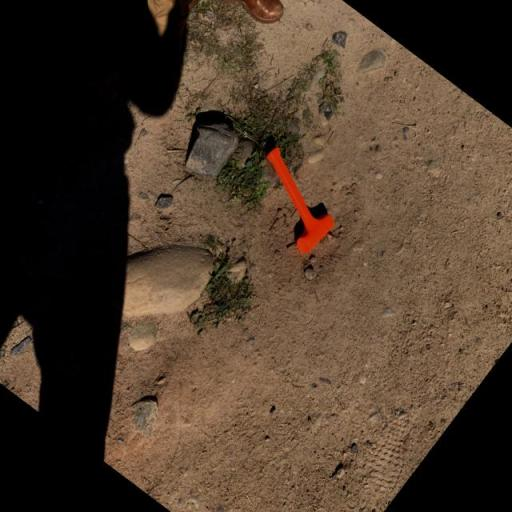mallet: (230, 140, 362, 266)
